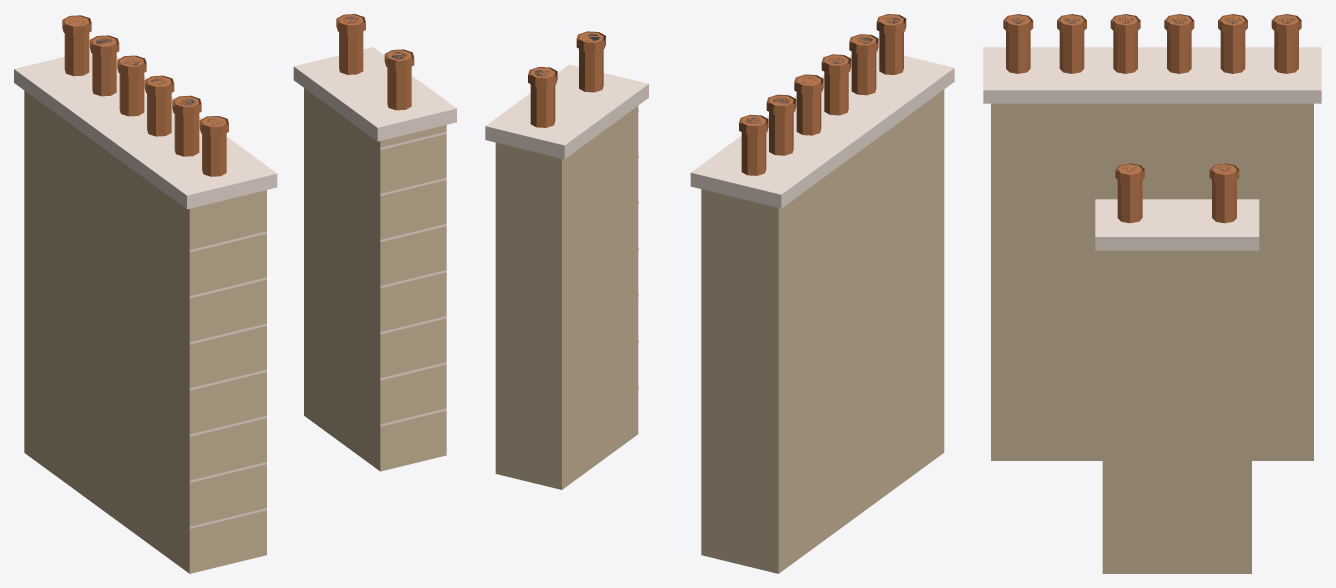
The model's file is roofprop_close.fbx.
3 renders of one model, left to right at view 1: azimuth 30°, elevation 25°; view 2: azimuth 150°, elevation 25°; view 3: azimuth 270°, elevation 25°, orthographic. The views are drawn at different scales.
Parts seen in each view (by area): view 1: a2006/500/roofprop_close; view 2: a2006/500/roofprop_close; view 3: a2006/500/roofprop_close.
Part boxes in pixels (x1=…): a2006/500/roofprop_close: x1=14, y1=14, x2=456, y2=573; a2006/500/roofprop_close: x1=485, y1=14, x2=954, y2=573; a2006/500/roofprop_close: x1=983, y1=14, x2=1321, y2=573.
Size of the model in its own units: 2.97 by 3.75 by 2.72.
